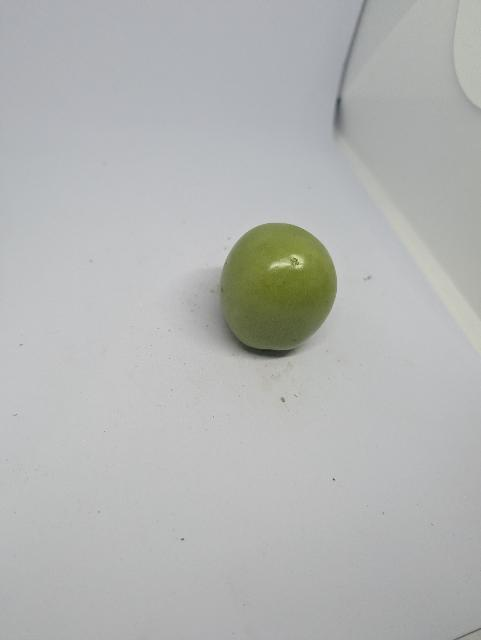green: (195, 198, 352, 384)
